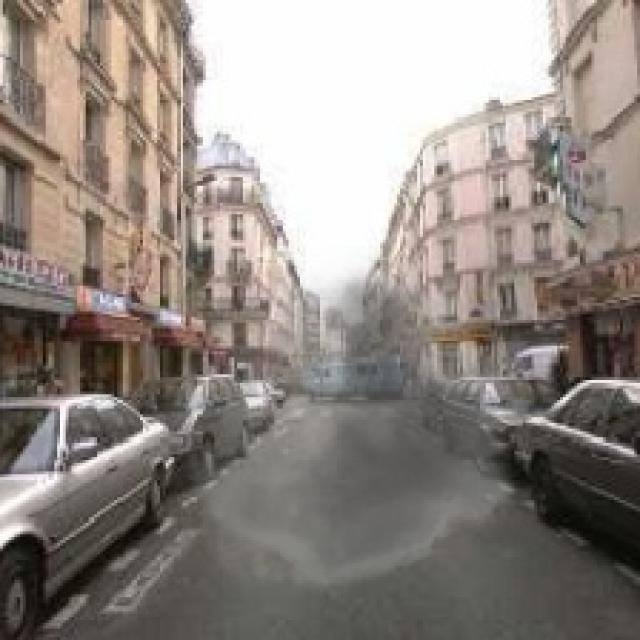Smoke: (142, 245, 554, 606)
